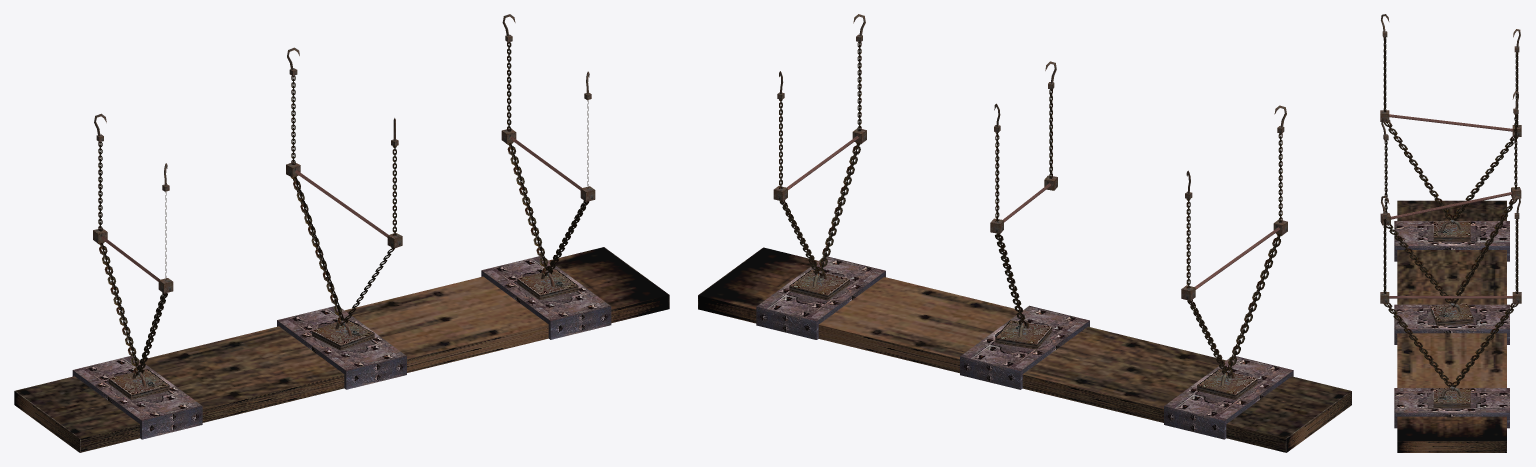
The model's file is six_hooks.fbx.
3 views of the same model, side by side, from view 1: azimuth 30°, elevation 25°; view 2: azimuth 150°, elevation 25°; view 3: azimuth 270°, elevation 25° (orthographic). The views are drawn at different scales.
Visible parts, largest first — view 1: mesh_0, mesh_1, mesh_35, mesh_18, mesh_19, mesh_2, mesh_36, mesh_7, mesh_24, mesh_41; view 2: mesh_0, mesh_35, mesh_1, mesh_18, mesh_2, mesh_19, mesh_36, mesh_21, mesh_4; view 3: mesh_0, mesh_1, mesh_35, mesh_18, mesh_36, mesh_2, mesh_19, mesh_20, mesh_40, mesh_3, mesh_6, mesh_37 (+11 smaller).
Part boxes in pixels (x1,y1,x2,y2): mesh_0: (14, 247, 669, 452); mesh_1: (481, 256, 611, 339); mesh_35: (277, 306, 406, 389); mesh_18: (72, 356, 202, 439); mesh_19: (108, 369, 169, 399); mesh_2: (517, 269, 578, 299); mesh_36: (312, 320, 374, 350); mesh_7: (506, 142, 550, 275); mesh_24: (97, 242, 141, 375); mesh_41: (291, 176, 344, 325); mesh_0: (698, 247, 1351, 452); mesh_35: (960, 305, 1089, 389); mesh_1: (756, 256, 885, 339); mesh_18: (1164, 356, 1293, 439); mesh_2: (789, 269, 849, 300); mesh_19: (1197, 369, 1257, 399); mesh_36: (995, 320, 1052, 349); mesh_21: (1224, 233, 1282, 375); mesh_4: (816, 142, 861, 275); mesh_0: (1397, 200, 1506, 452); mesh_1: (1394, 388, 1509, 428); mesh_35: (1394, 304, 1509, 344); mesh_18: (1394, 221, 1509, 261); mesh_36: (1430, 303, 1473, 325); mesh_2: (1433, 386, 1470, 408); mesh_19: (1433, 219, 1470, 241); mesh_20: (1383, 122, 1453, 219); mesh_40: (1451, 199, 1517, 303); mesh_3: (1383, 303, 1453, 386); mesh_6: (1451, 303, 1518, 386); mesh_37: (1386, 224, 1453, 303).
Bounding box in the file's own units: 260 × 120 × 64.42.
Materials: 2 (2 with a texture image).
